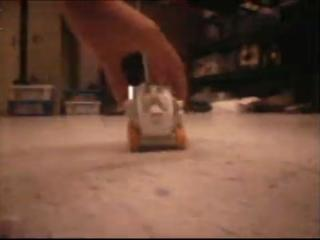cozmo: (124, 83, 193, 155)
